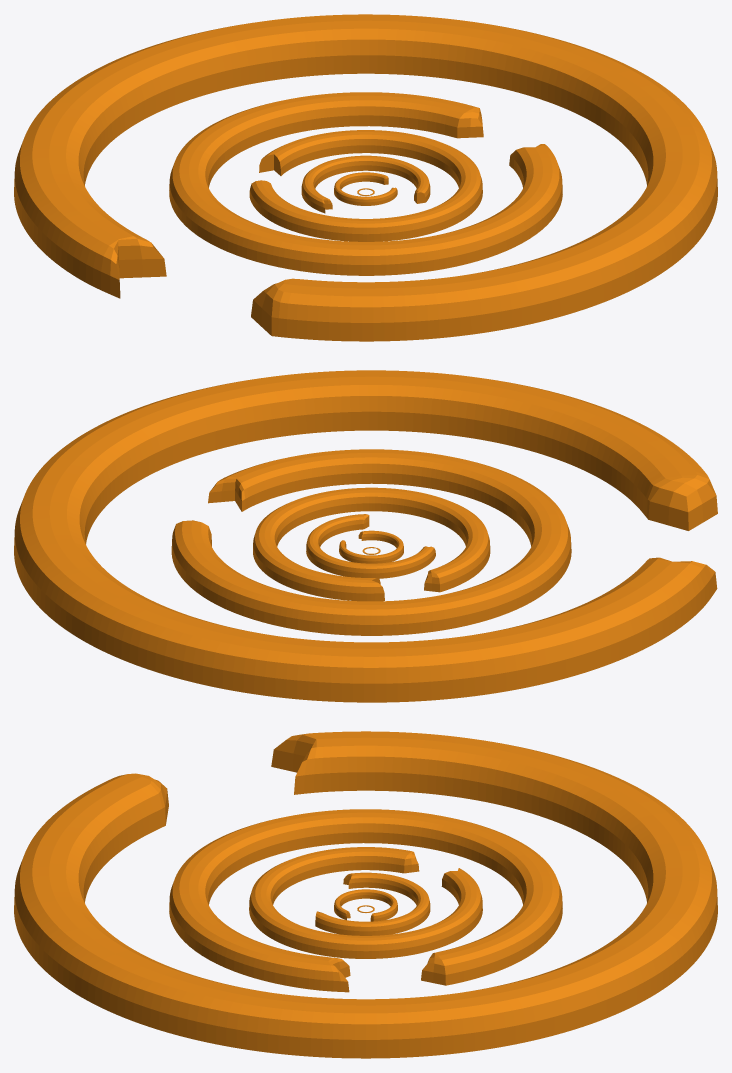
Rendered from hireco_3DScene_beveled-v3.glb.
3 renders of one model, top to bottom at view 1: azimuth 30°, elevation 25°; view 2: azimuth 150°, elevation 25°; view 3: azimuth 270°, elevation 25°, orthographic.
Parts seen in each view (by area): view 1: ring_6, ring_5, ring_4, ring_3, ring_2; view 2: ring_6, ring_5, ring_4, ring_3, ring_2; view 3: ring_6, ring_5, ring_4, ring_3, ring_2.
Boxes of the visible parts, left/top/right/bottom form: ring_6: left=14, top=14, right=717, bottom=341; ring_5: left=169, top=92, right=562, bottom=275; ring_4: left=249, top=130, right=482, bottom=241; ring_3: left=301, top=155, right=430, bottom=213; ring_2: left=334, top=172, right=397, bottom=205; ring_6: left=14, top=370, right=717, bottom=702; ring_5: left=171, top=449, right=571, bottom=635; ring_4: left=253, top=487, right=490, bottom=601; ring_3: left=306, top=514, right=435, bottom=578; ring_2: left=339, top=530, right=403, bottom=563; ring_6: left=14, top=731, right=717, bottom=1058; ring_5: left=169, top=809, right=562, bottom=992; ring_4: left=249, top=847, right=482, bottom=958; ring_3: left=315, top=872, right=430, bottom=935; ring_2: left=334, top=889, right=397, bottom=921.
Size of the model in its own units: 1.55 by 0.0925 by 1.55.
